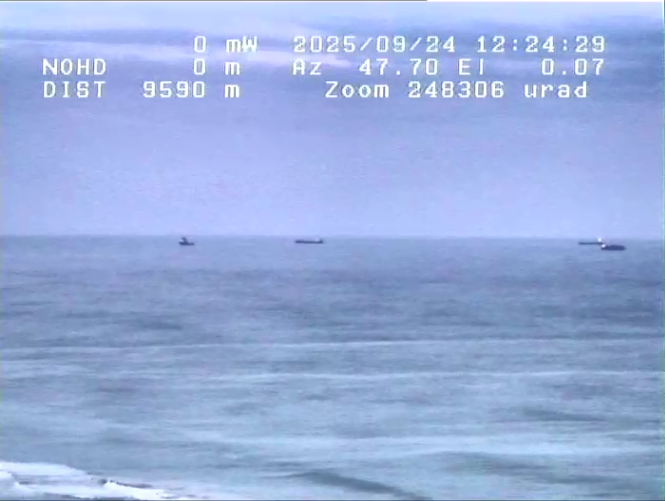OFFSHORE_SUPPLY_VESSEL: (167, 225, 201, 249)
TANKER: (291, 232, 336, 248), (570, 234, 619, 245)
